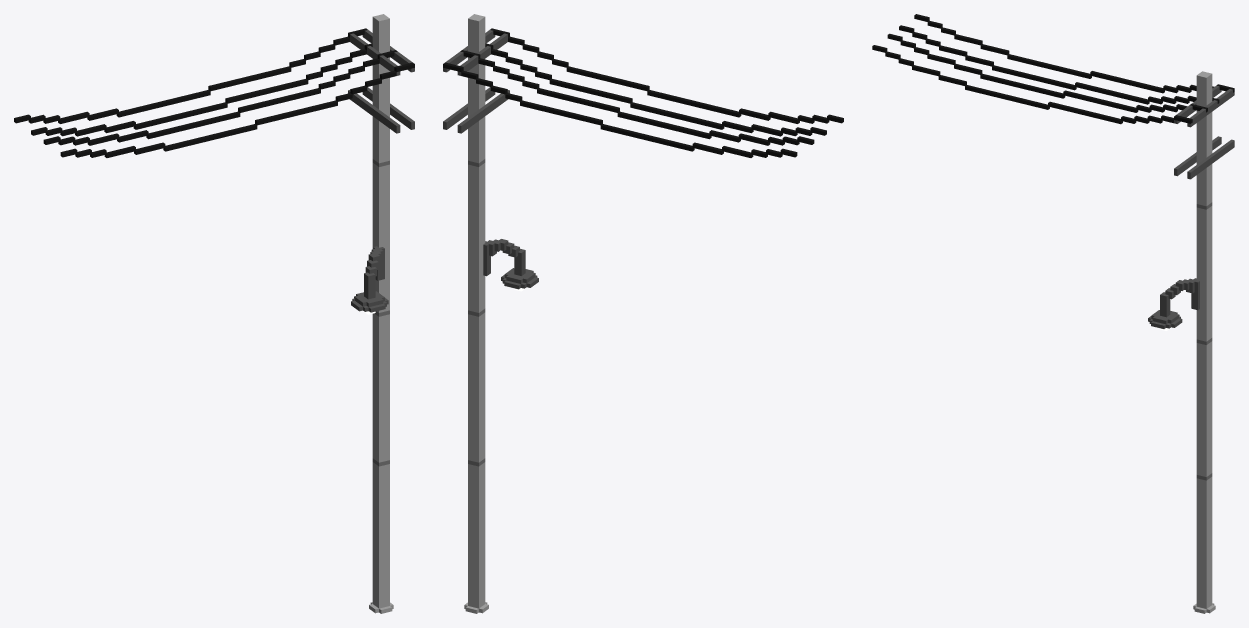
The model's file is poleThree.glb.
3 renders of one model, left to right at view 1: azimuth 30°, elevation 25°; view 2: azimuth 150°, elevation 25°; view 3: azimuth 330°, elevation 25°, orthographic. The views are drawn at different scales.
Parts seen in each view (by area): view 1: ObjObject; view 2: ObjObject; view 3: ObjObject.
Boxes of the visible parts, left/top/right/bottom form: ObjObject: left=14, top=14, right=414, bottom=613; ObjObject: left=443, top=14, right=843, bottom=613; ObjObject: left=872, top=14, right=1234, bottom=613.
Bounding box in the file's own units: 9.6 × 15.4 × 2.3.
2 materials, 1 textured.
